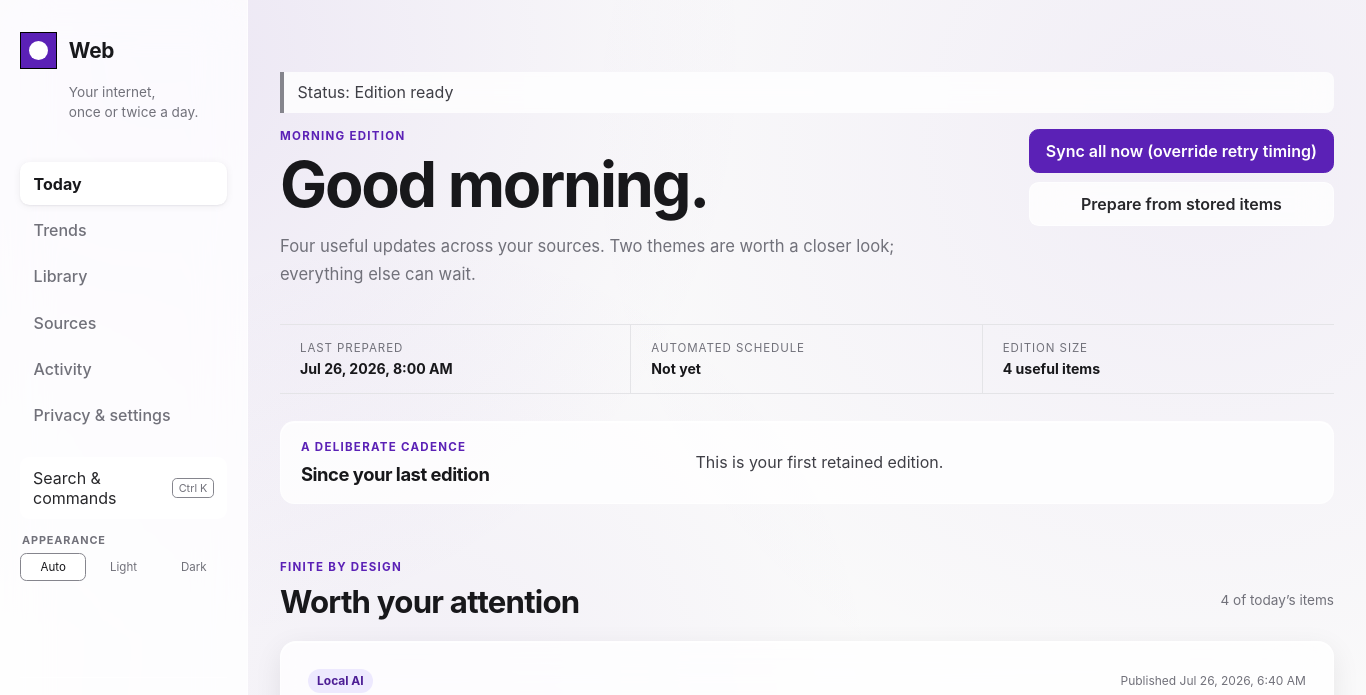
Test case: calm dashboard › confirms backup restore in an accessible dialog without a browser prompt
The width and height of the screenshot is (1366, 695).
Expected: the heading "Good morning." is shown, top-left (280, 146), bottom-right (708, 222)
Click the button "Privacy & settings". click: click(124, 416)
box: top-left (20, 394), bottom-right (227, 437)
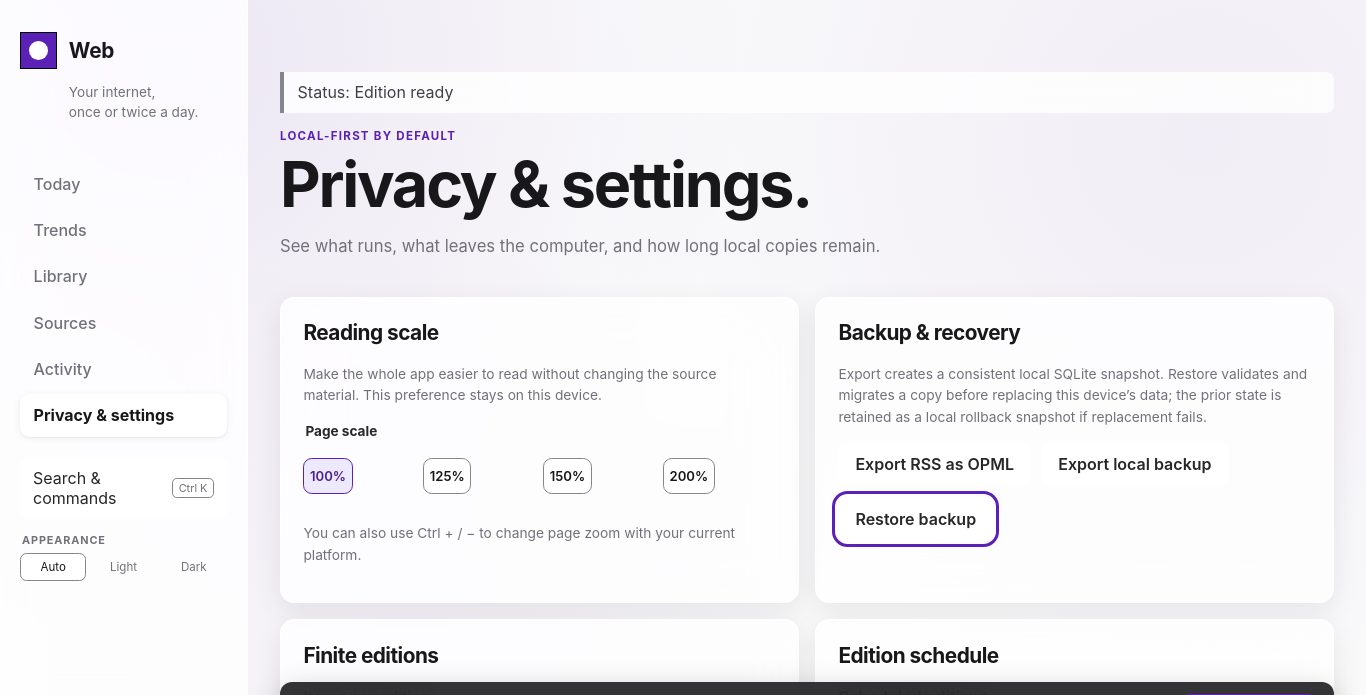
Click the button "Restore backup". click: click(916, 519)
box: top-left (838, 497), bottom-right (993, 541)
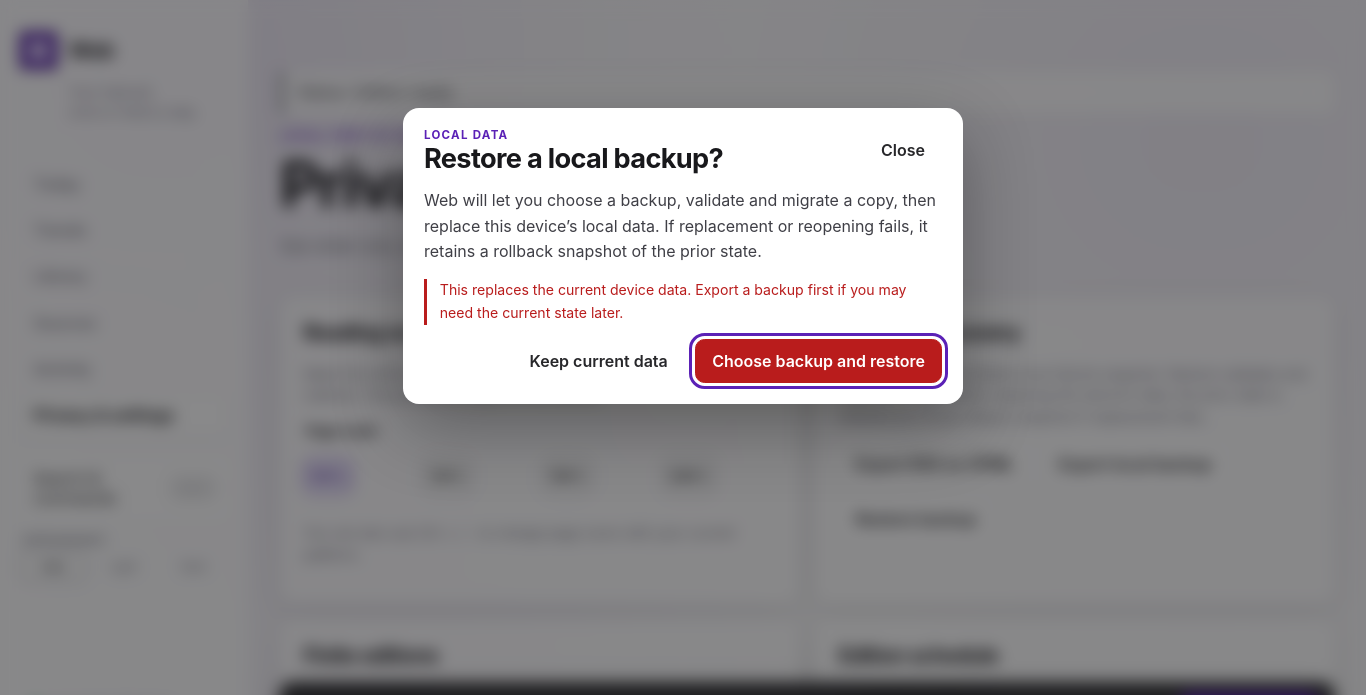
Press Escape
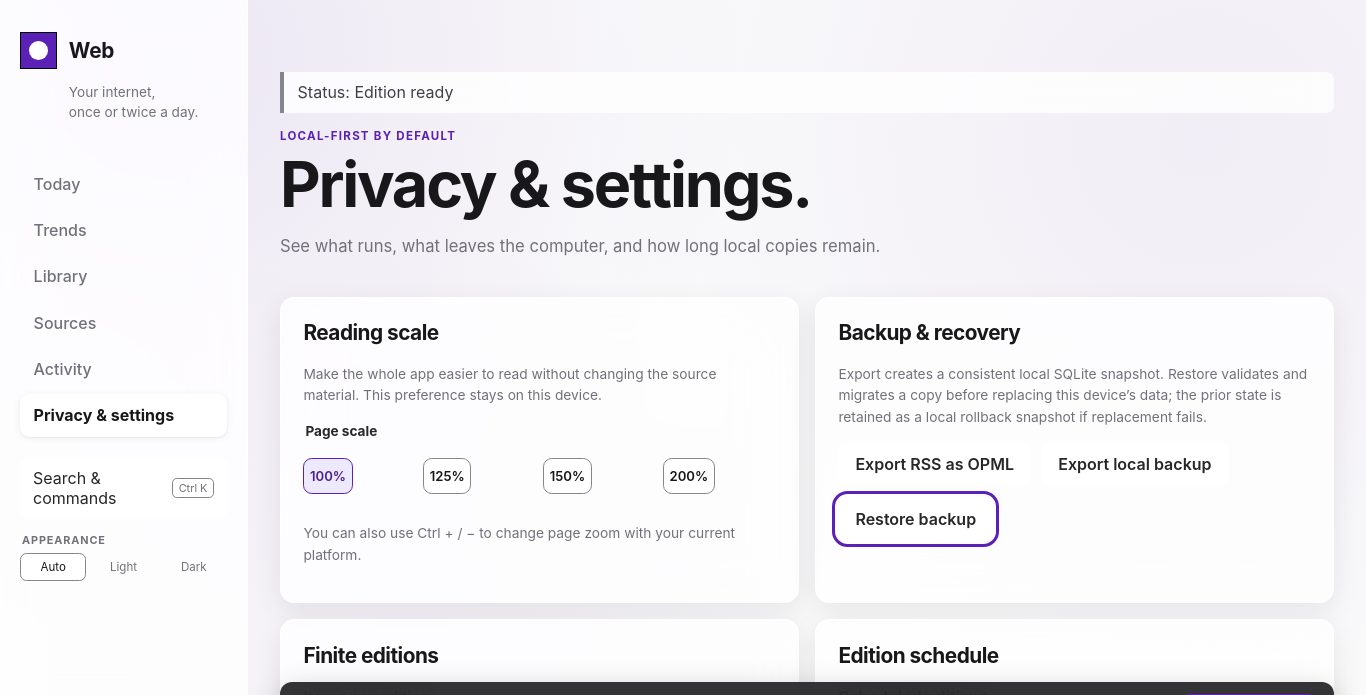
Now the heading "Restore a local backup?" is gone
Click the button "Restore backup". click: click(916, 519)
box: top-left (838, 497), bottom-right (993, 541)
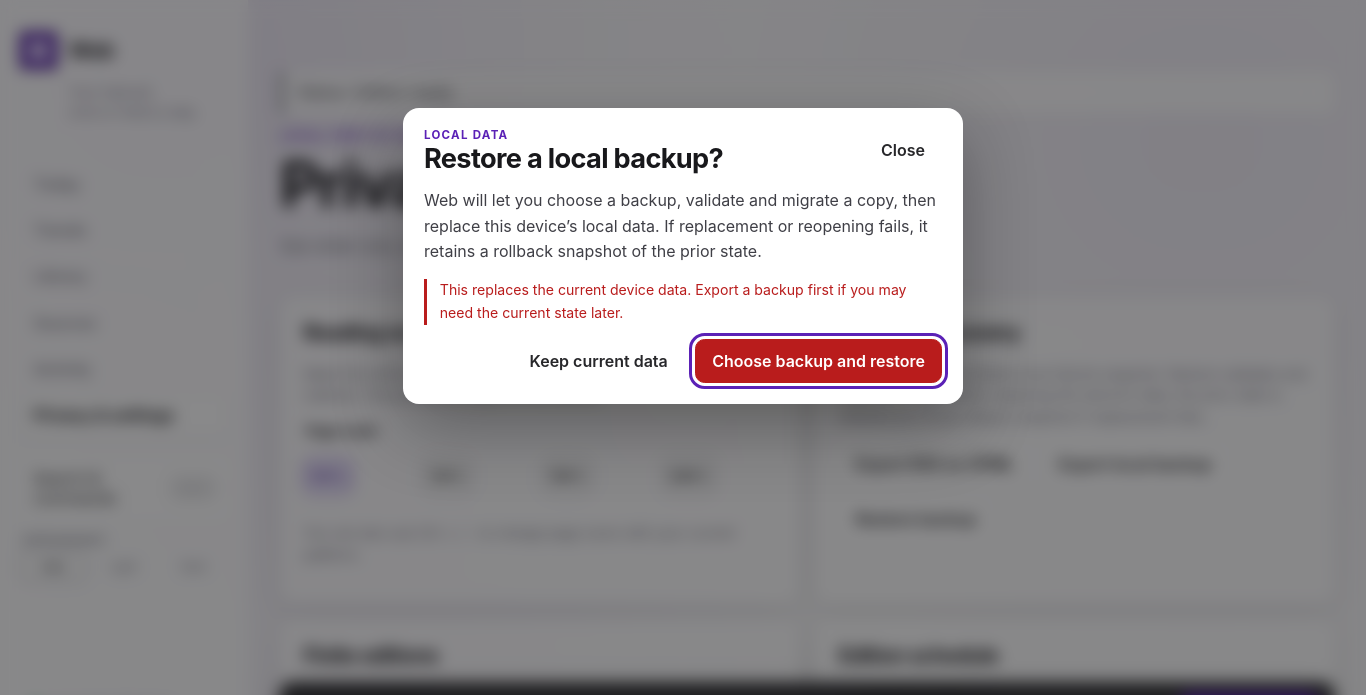
Click the button "Choose backup and restore". click: click(819, 361)
box: top-left (695, 339), bottom-right (942, 383)
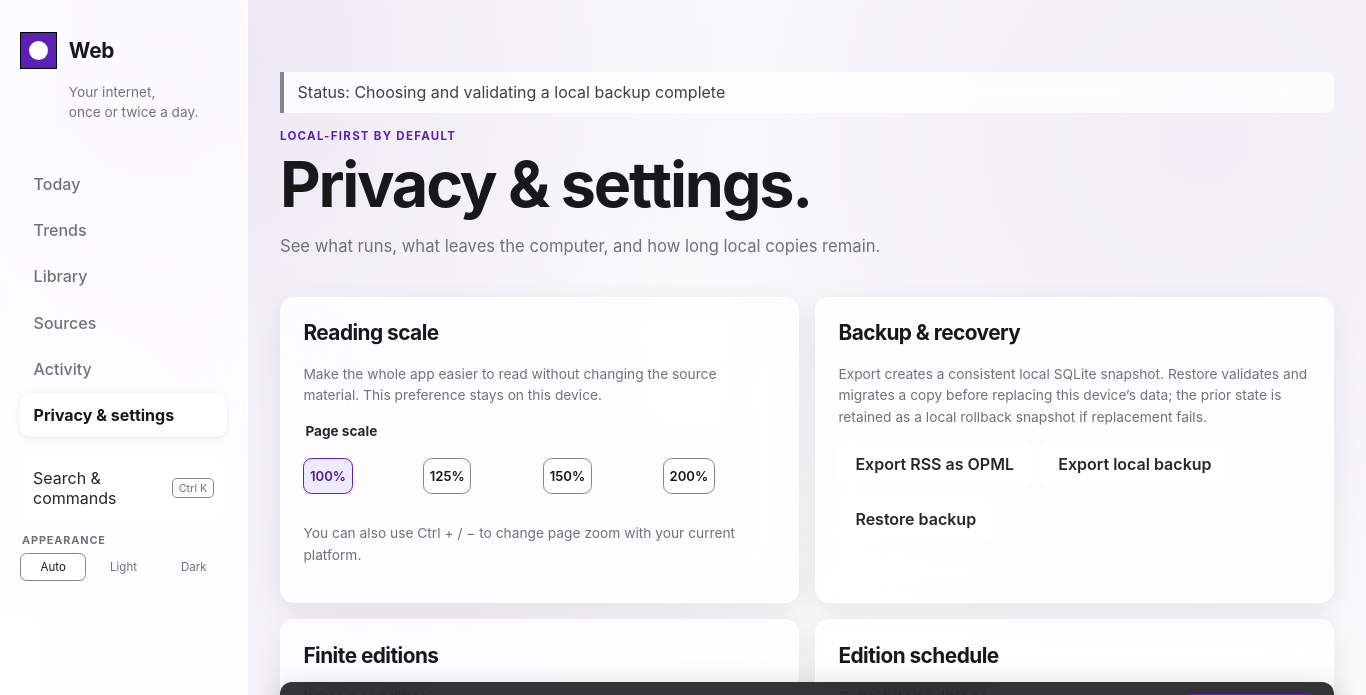
Now the heading "Restore a local backup?" is gone
